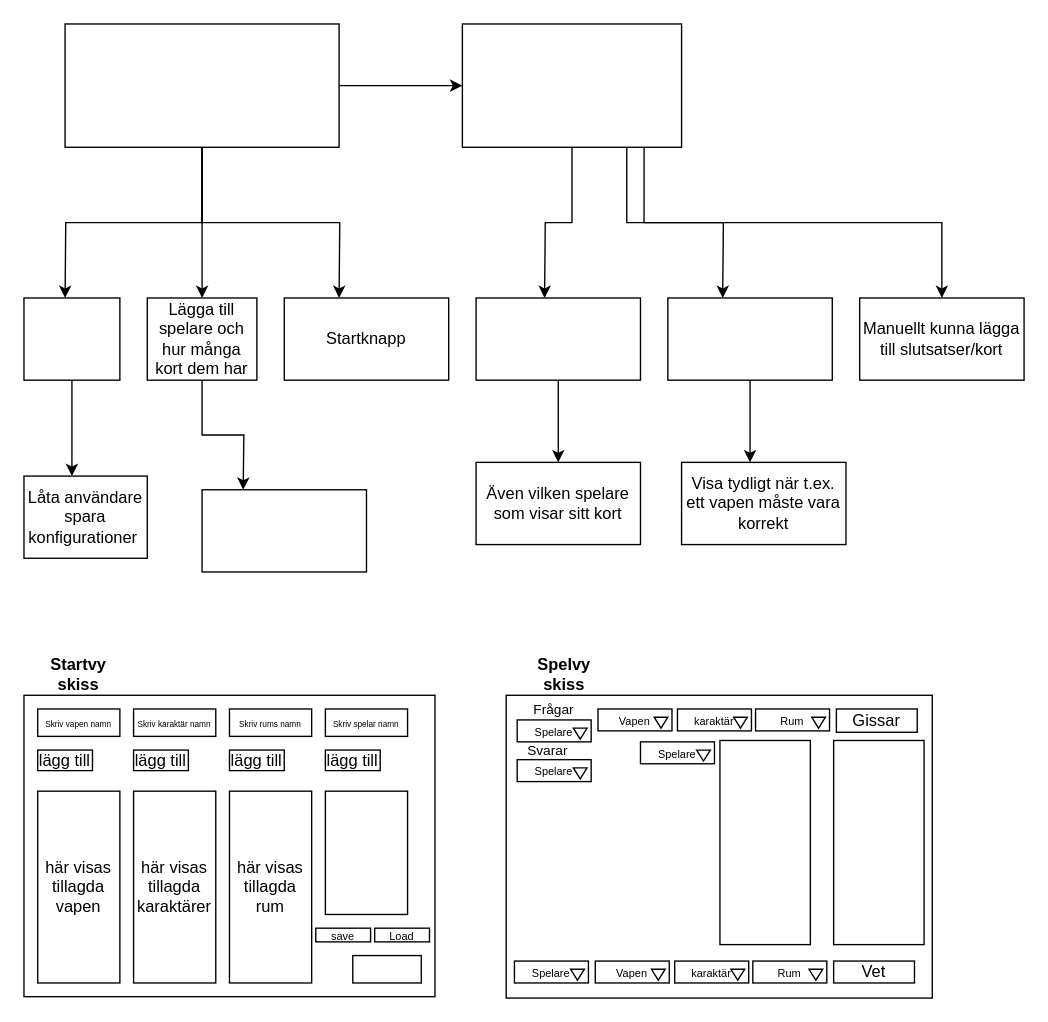
The diagram is 1048 pixels wide and 1022 high, and some of its shapes have lost their labels. Each missing label, with the box of its shape:
här visas tillagda spelare: (324, 790, 408, 914)
Lägga till Rum Vapen Personer: (23, 297, 120, 380)
Se nuvarande slutsatser programmet gör om alla spelare: (667, 297, 832, 380)
Spelvy: (461, 23, 682, 147)
Start: (351, 954, 421, 983)
Startvy: (64, 23, 339, 147)
Välja vilken spelare som frågar om vilka kort: (475, 297, 640, 380)
Även vilket ordning dem sitter i: (201, 488, 366, 572)
